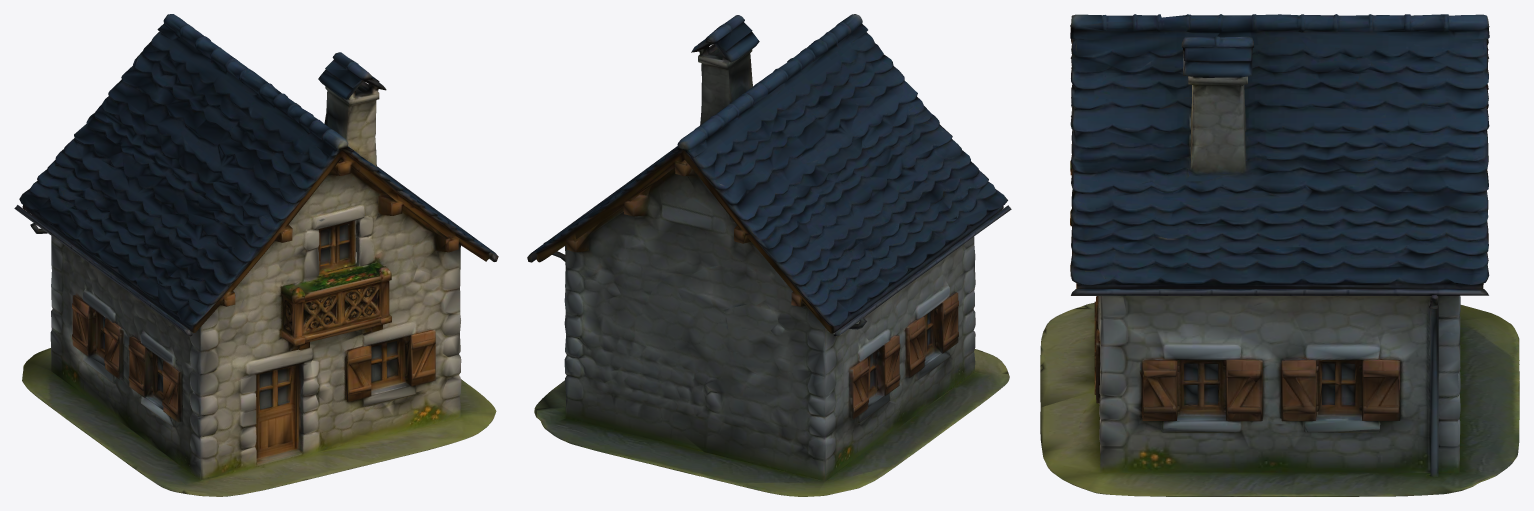
The model's file is piedra.glb.
3 renders of one model, left to right at view 1: azimuth 30°, elevation 25°; view 2: azimuth 150°, elevation 25°; view 3: azimuth 270°, elevation 25°, orthographic. The views are drawn at different scales.
Parts seen in each view (by area): view 1: node_0; view 2: node_0; view 3: node_0.
Part boxes in pixels (box(x1,y1,x2,y2)): node_0: box(14, 14, 498, 496); node_0: box(527, 14, 1011, 496); node_0: box(1040, 14, 1519, 496).
Bounding box in the file's own units: 0.758 × 0.7211 × 0.7793.
Materials: 1 (1 with a texture image).
